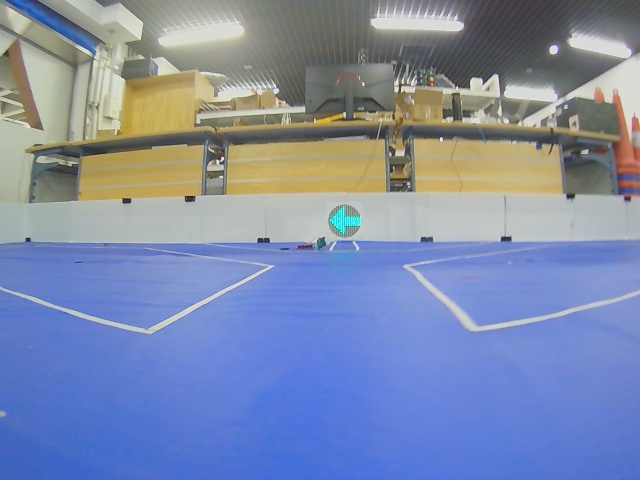left_green: (329, 205, 361, 238)
